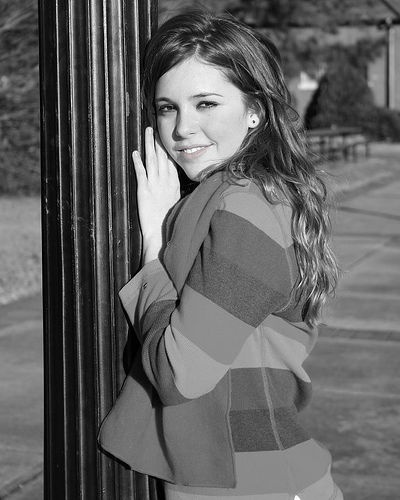without_mask: (146, 67, 262, 178)
